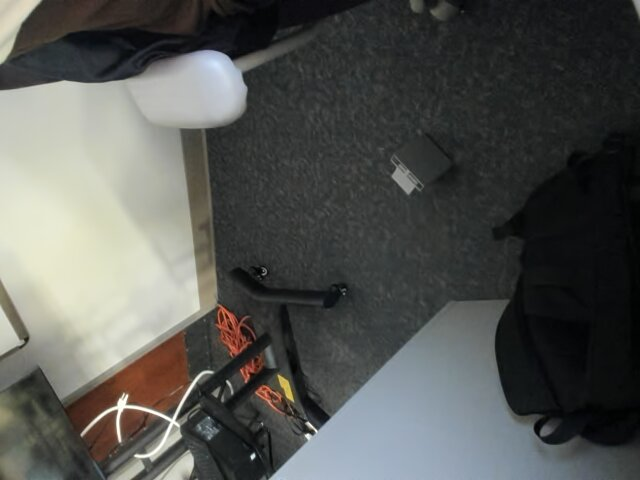grey pallet: (380, 136, 458, 198)
